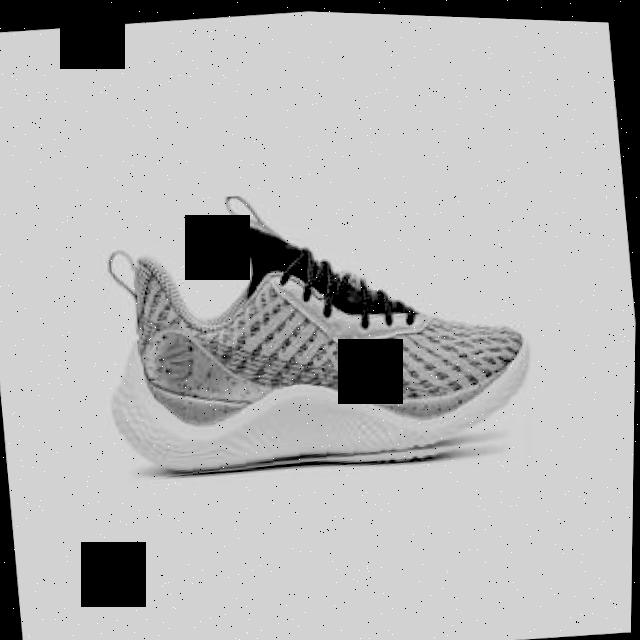shoe: (95, 160, 546, 491)
